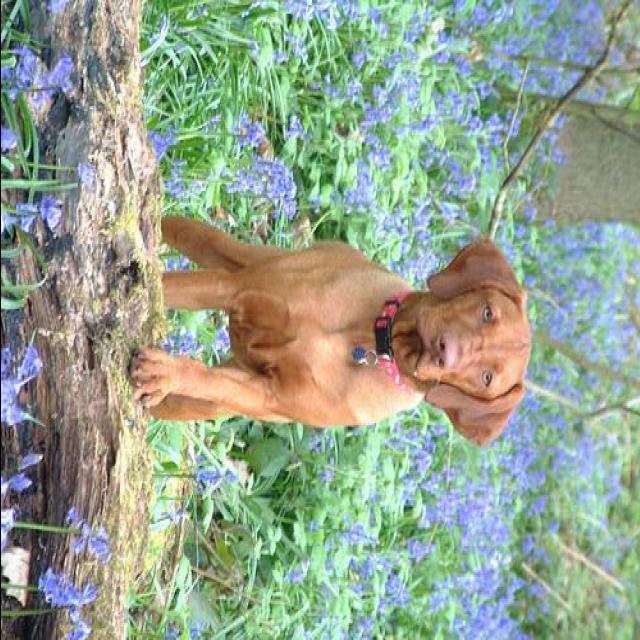vizsla: (128, 210, 534, 446)
